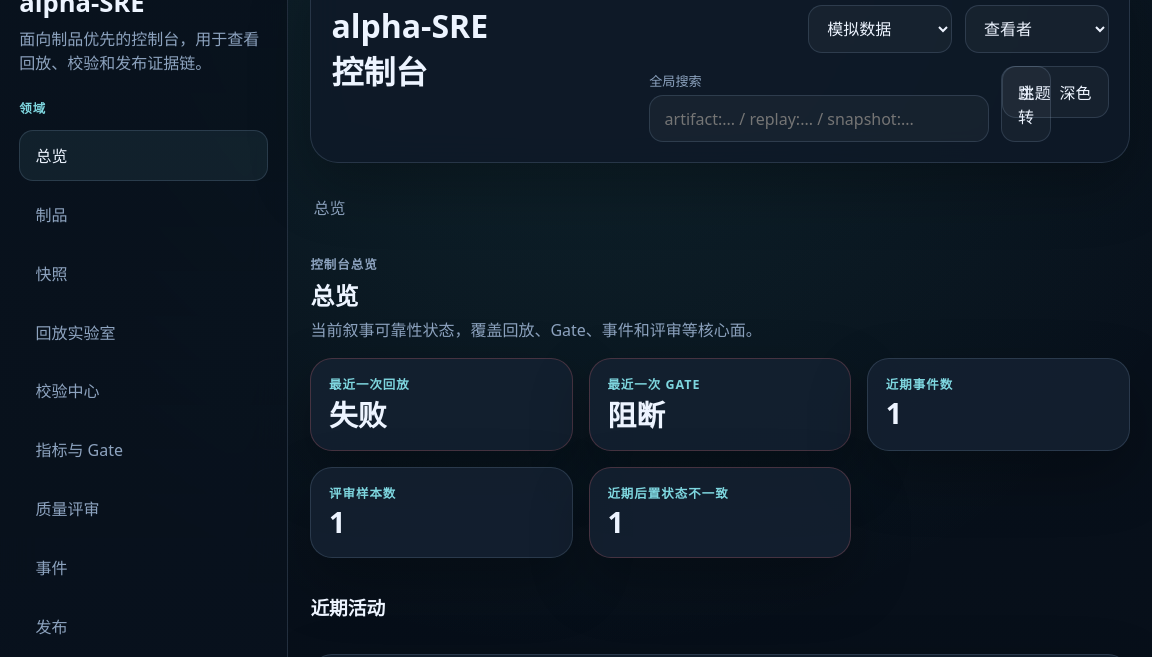
Test: release routes › supports release list filtering with explicit status controls
Click the link "发布": (51, 627) [35,616,67,638]
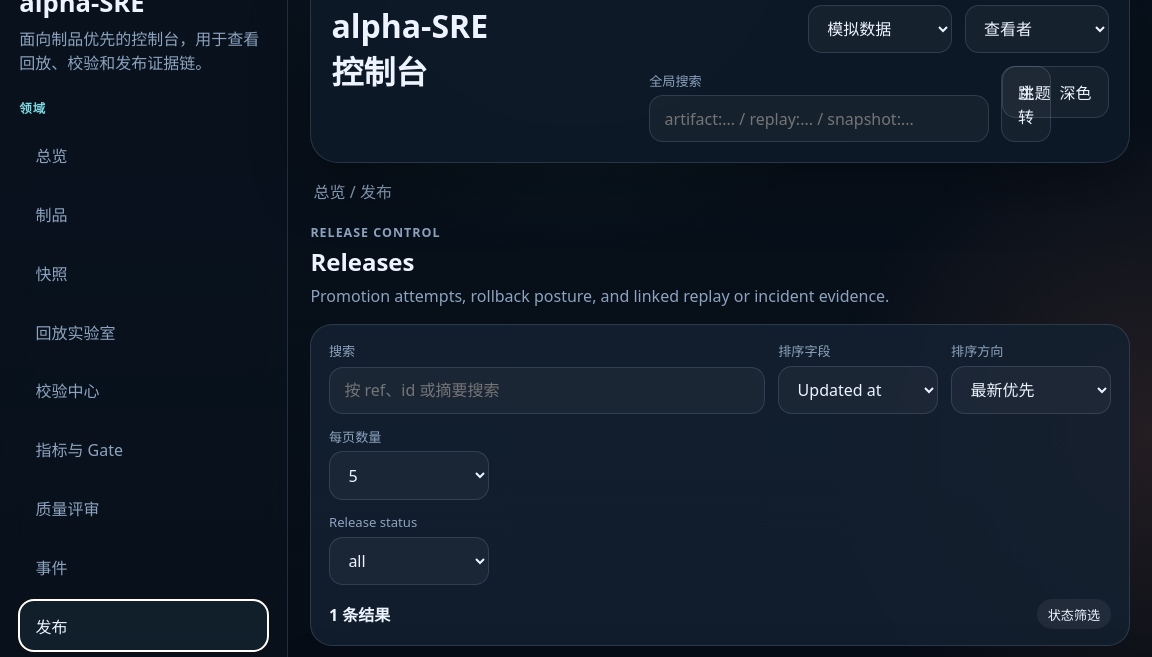
Expected: the heading "Releases" is shown, [310,246,414,278]
Expected: the dropdown labelled "Release status" is shown, [329,537,489,585]
Expected: the dropdown labelled "每页数量" is shown, [329,451,489,500]
In the field labelled "搜索": (547, 390) [329,367,765,414], type "missing-release"
(page scrolled)
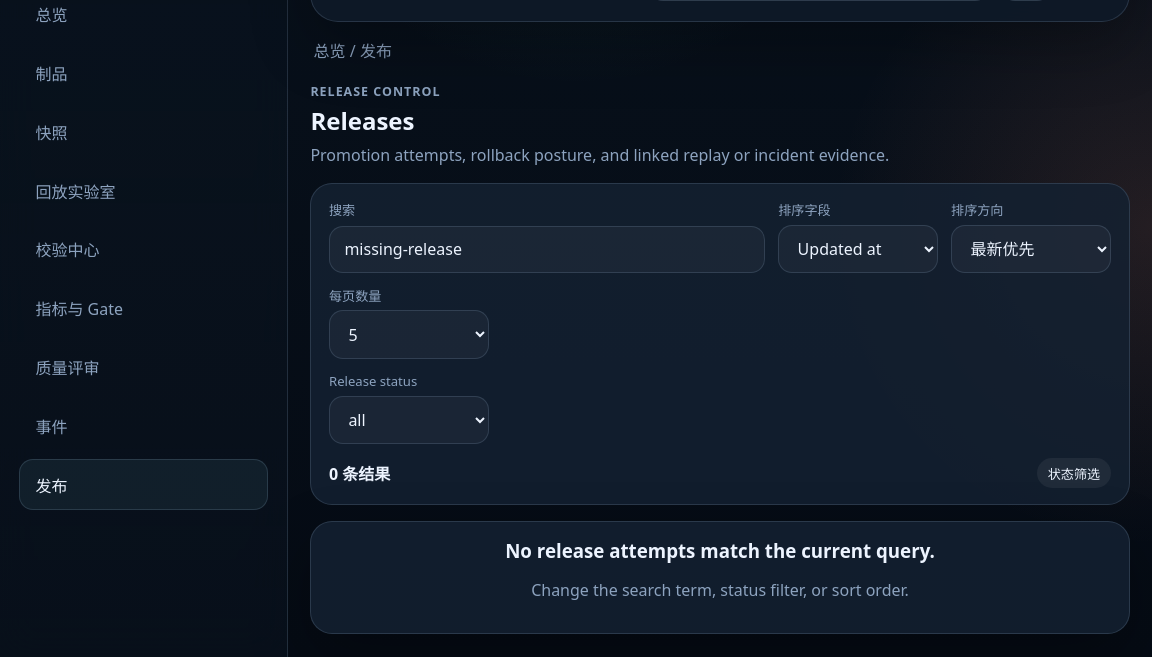
Expected: the heading "No release attempts match the current query." is shown, [505,538,935,563]
